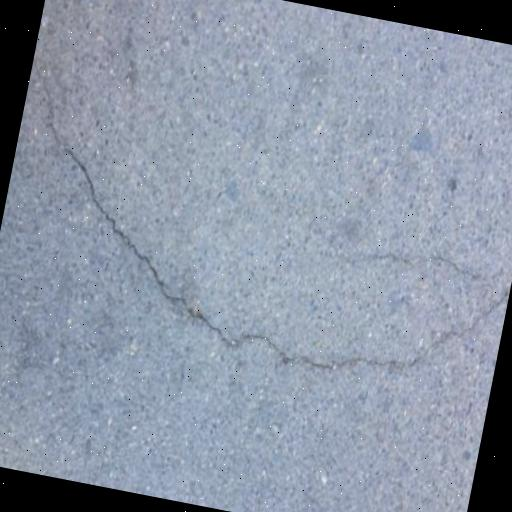spalling: (25, 115, 499, 387)
